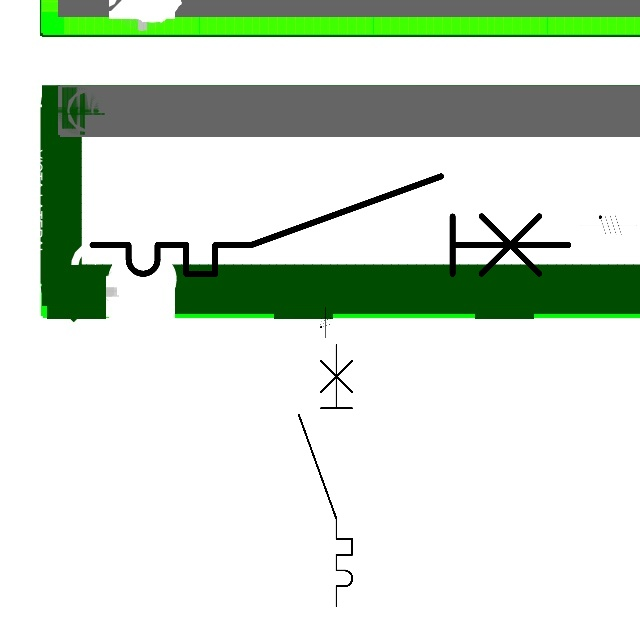interruptor_termomagnetico: (80, 164, 581, 286), (292, 338, 359, 613)
